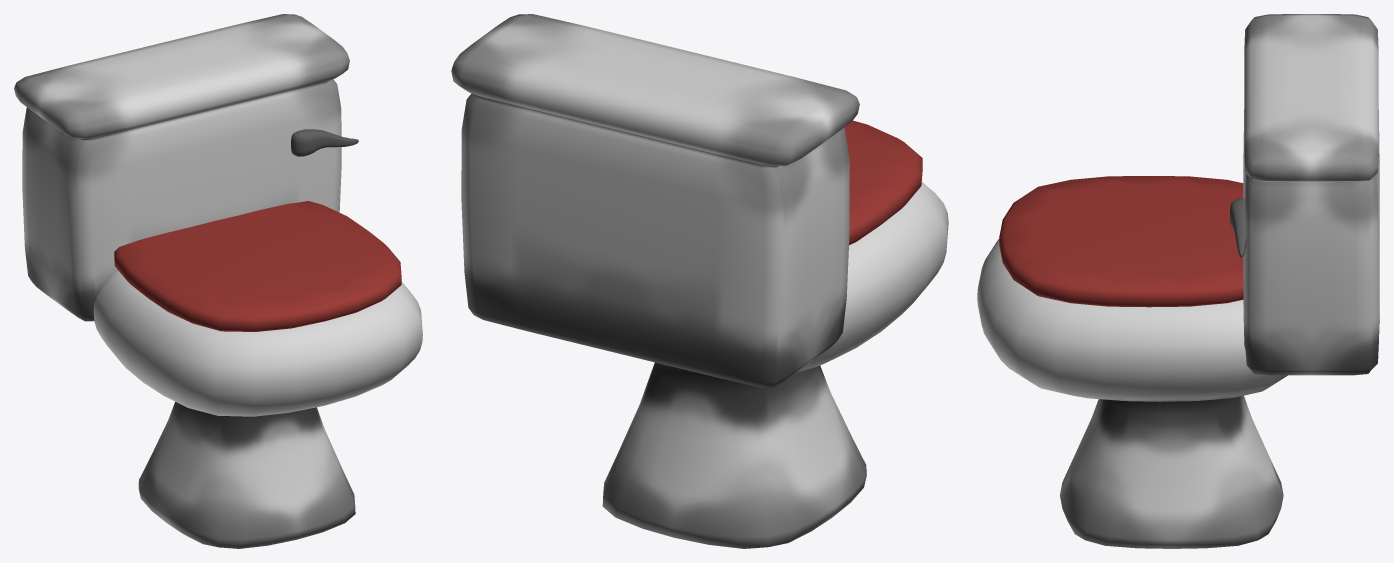
Rendered from Toilet.glb.
3 views of the same model, side by side, from view 1: azimuth 30°, elevation 25°; view 2: azimuth 150°, elevation 25°; view 3: azimuth 270°, elevation 25° (orthographic). The views are drawn at different scales.
Visible parts, largest first — view 1: Cube, Cube.001, Cube.002; view 2: Cube.001, Cube; view 3: Cube, Cube.001, Cube.002.
Part boxes in pixels (bbox=[...]): Cube: bbox=[93, 201, 422, 548]; Cube.001: bbox=[14, 14, 349, 321]; Cube.002: bbox=[291, 129, 358, 156]; Cube.001: bbox=[451, 14, 859, 387]; Cube: bbox=[602, 120, 948, 548]; Cube: bbox=[977, 176, 1287, 548]; Cube.001: bbox=[1243, 14, 1379, 375]; Cube.002: bbox=[1230, 198, 1246, 257].
Size of the model in its own units: 1.67 by 2.22 by 1.89.
4 materials, 2 textured.
